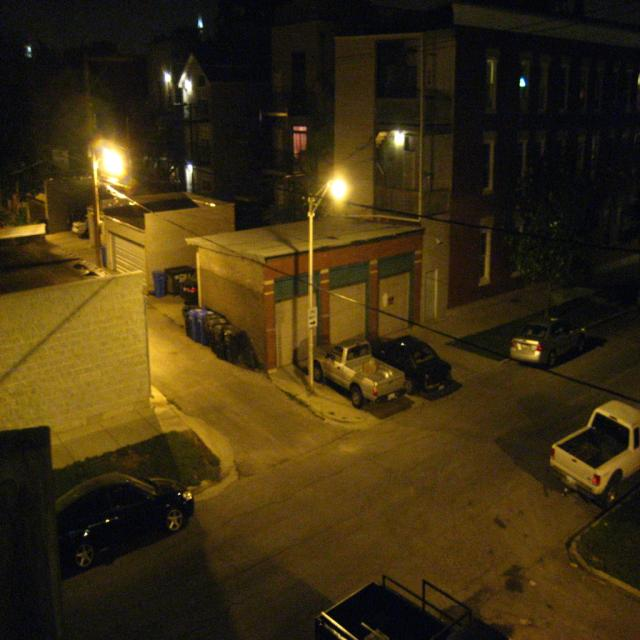car: (554, 410, 639, 520), (510, 314, 584, 364)
